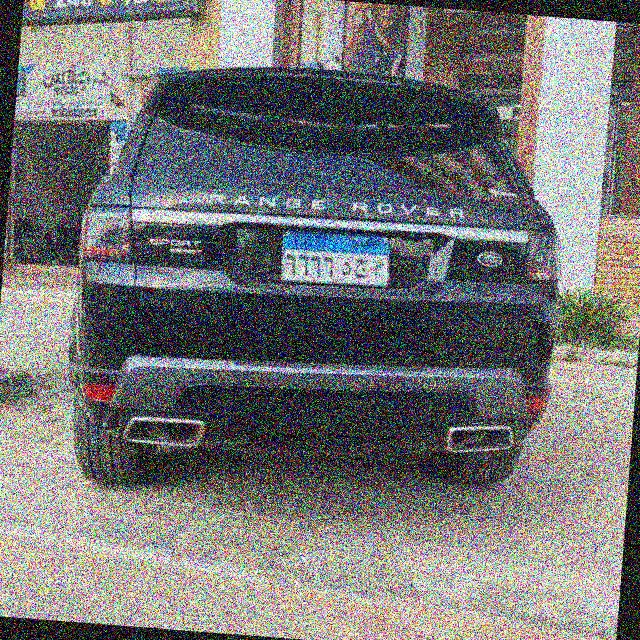License Plate: (277, 222, 397, 293)
